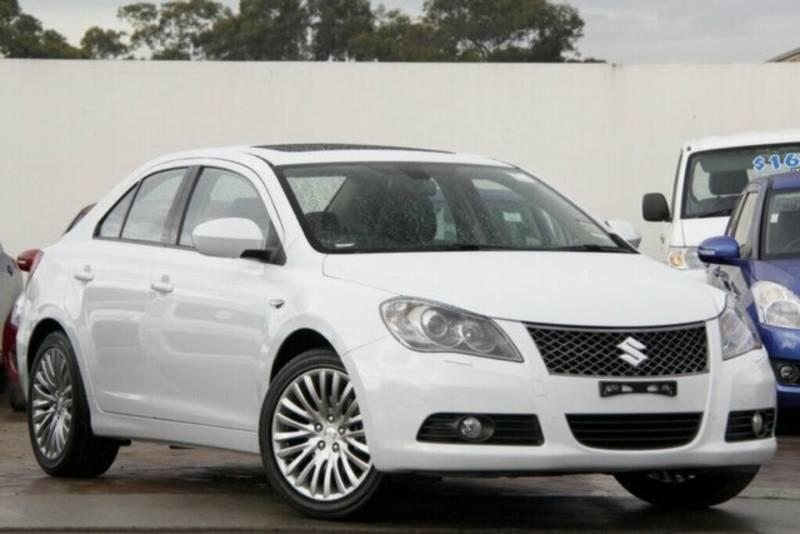suzuki: (610, 330, 651, 371)
